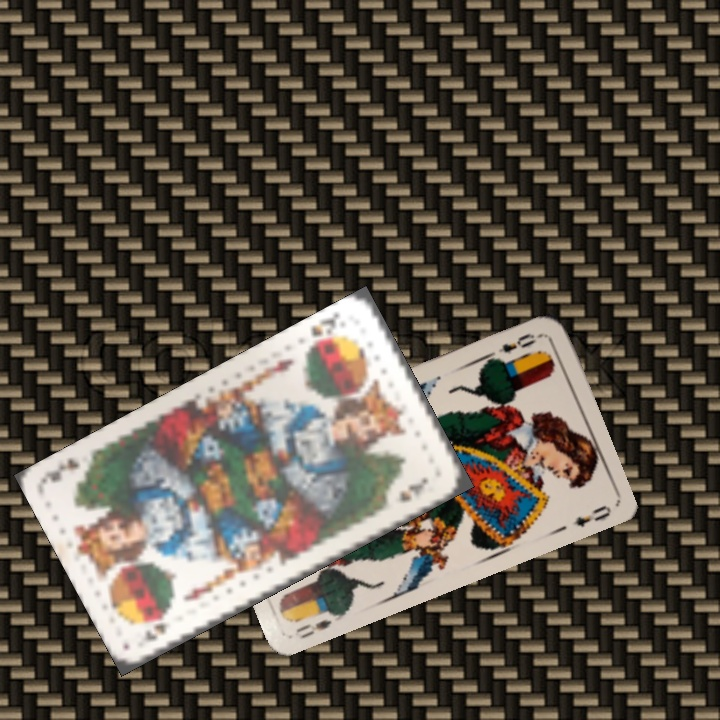EO: (494, 329, 545, 356), (292, 615, 334, 642)
SK: (304, 309, 343, 354), (140, 618, 172, 644)
